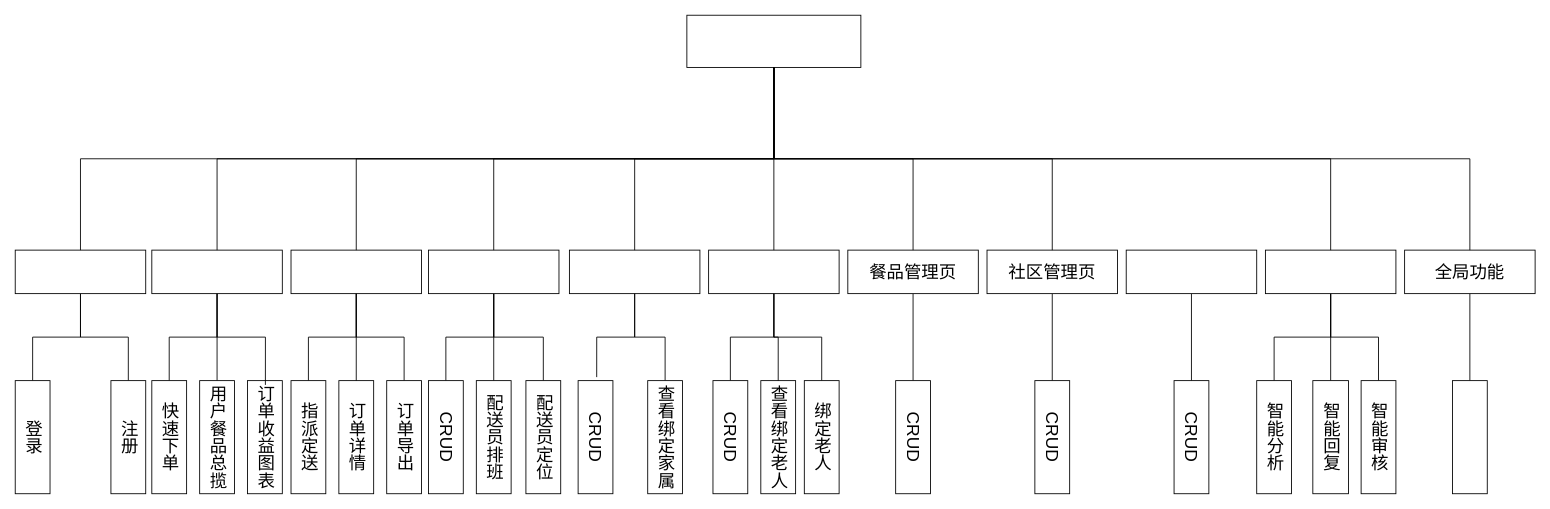
Some shapes in this 1550 by 509 pixel diagram are drawn without their labels. The shapes that lost their labels are listed below. From the top down, each one's centre as x and y in pixels, then its label:
point (773, 40): 管理员
point (80, 271): 登录注册页
point (216, 271): 工作台预览页
point (356, 271): 订单管理页
point (493, 271): 跑腿管理页
point (634, 271): 老人管理页
point (773, 271): 家属管理页
point (1191, 271): 通知管理页
point (1330, 271): 评价管理页
point (1469, 437): 智能助手
